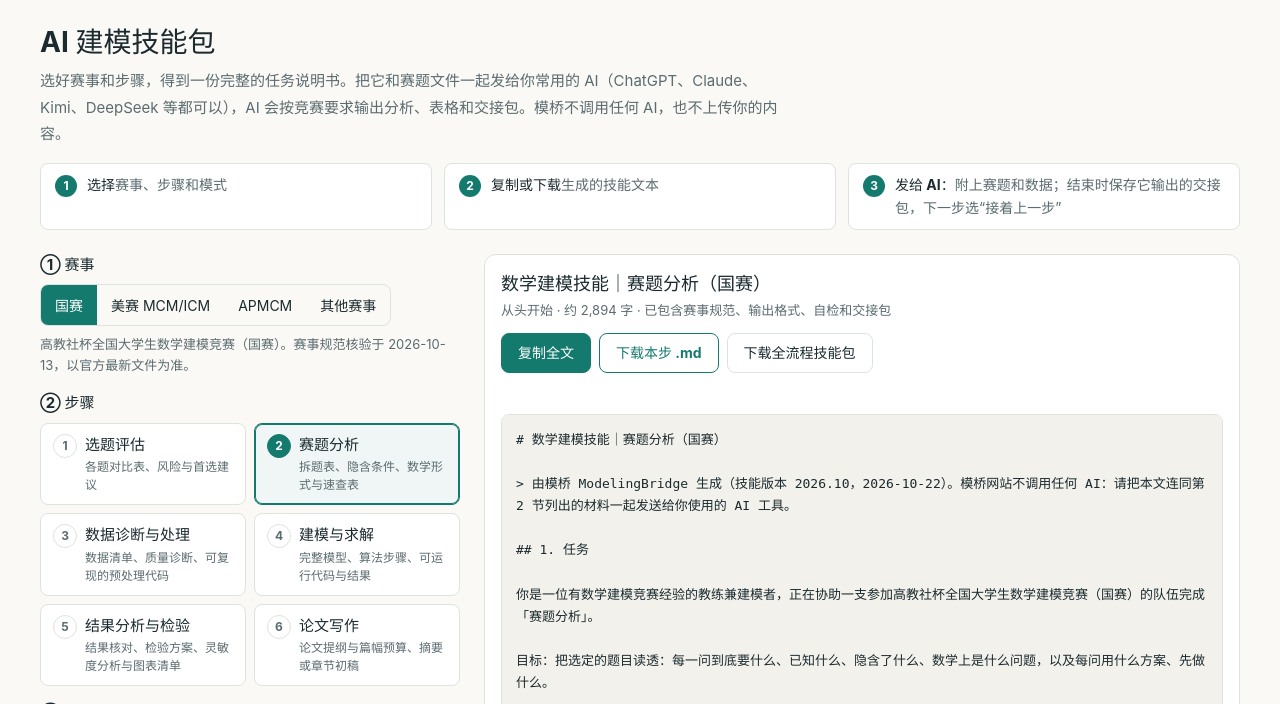
Test: AI 技能包页面 › 复制成功给出下一步提示；失败时选中全文并说明手动复制
What coordinates should you click on to do the following:
click the button "复制全文"
I would click on:
 (546, 353)
Its box is [501, 333, 591, 373].
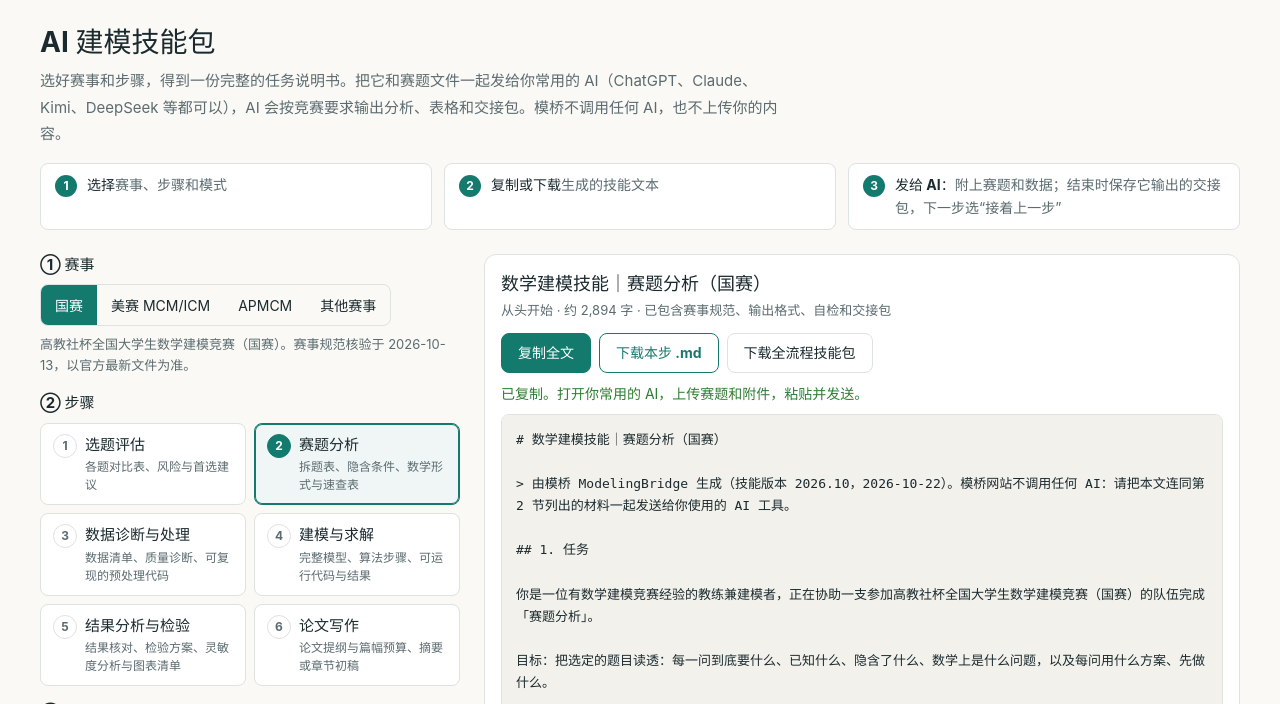
Expected: the text "已复制。打开你常用的 AI，上传赛题和附件，粘贴并发送。" is shown, [501, 385, 868, 402]
What coordinates should you click on to do the following:
click the button "复制全文"
I would click on:
 (546, 353)
Its box is [501, 333, 591, 373].
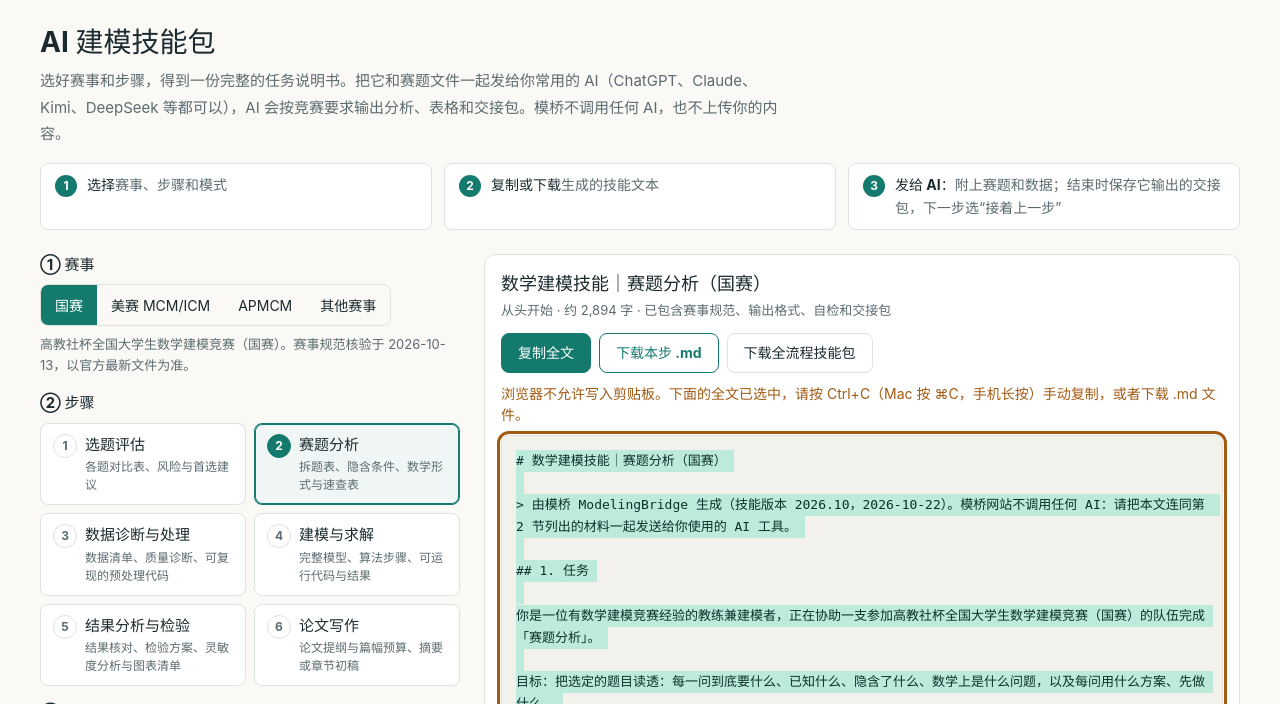
Expected: the text "浏览器不允许写入剪贴板。下面的全文已选中，请按 Ctrl+C（Mac 按 ⌘C，手机长按）手动复制，或者下载 .md 文件。" is shown, [501, 383, 1223, 425]
